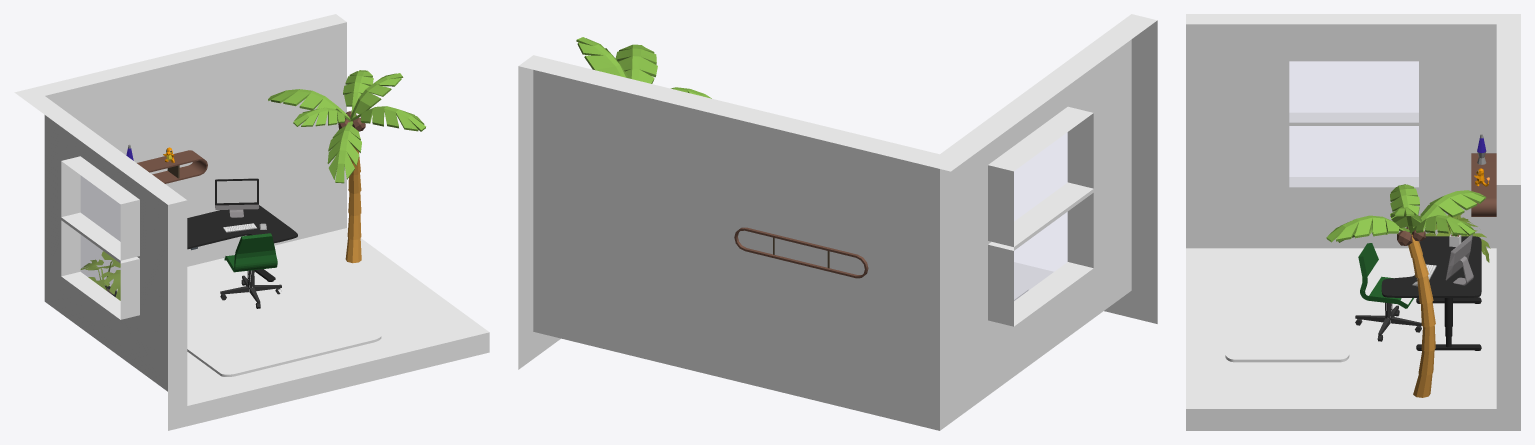
The picture shows the model from 3 angles, left to right: view 1: azimuth 30°, elevation 25°; view 2: azimuth 150°, elevation 25°; view 3: azimuth 270°, elevation 25°; orthographic projection. The views are drawn at different scales.
Parts seen in each view (by area): view 1: Plane, WawaRug, palm_tree_01, Desk, Chair, iMac, SM_Shelf:SM_Shelf1, Houseplant_7, Screen; view 2: Plane, palm_tree_01, SM_Shelf:SM_Shelf1; view 3: Plane, WawaRug, palm_tree_01, Desk, Chair, SM_Shelf:SM_Shelf1, iMac, Houseplant_7.
Part boxes in pixels (left/top/right/bottom): Plane: left=14, top=14, right=489, bottom=430; WawaRug: left=187, top=297, right=381, bottom=376; palm_tree_01: left=268, top=70, right=425, bottom=263; Desk: left=187, top=205, right=297, bottom=281; Chair: left=220, top=233, right=281, bottom=308; iMac: left=215, top=178, right=259, bottom=217; SM_Shelf:SM_Shelf1: left=137, top=150, right=207, bottom=183; Houseplant_7: left=80, top=251, right=120, bottom=300; Screen: left=217, top=180, right=256, bottom=203; Plane: left=518, top=14, right=1157, bottom=430; palm_tree_01: left=576, top=37, right=711, bottom=98; SM_Shelf:SM_Shelf1: left=734, top=227, right=868, bottom=278; Plane: left=1186, top=14, right=1520, bottom=430; WawaRug: left=1225, top=274, right=1349, bottom=362; palm_tree_01: left=1326, top=184, right=1486, bottom=397; Desk: left=1381, top=236, right=1481, bottom=350; Chair: left=1355, top=243, right=1421, bottom=341; SM_Shelf:SM_Shelf1: left=1471, top=153, right=1496, bottom=216; iMac: left=1445, top=234, right=1473, bottom=285; Houseplant_7: left=1406, top=214, right=1490, bottom=262.
Bounding box in the file's own units: 5.92 × 3.84 × 4.74.
